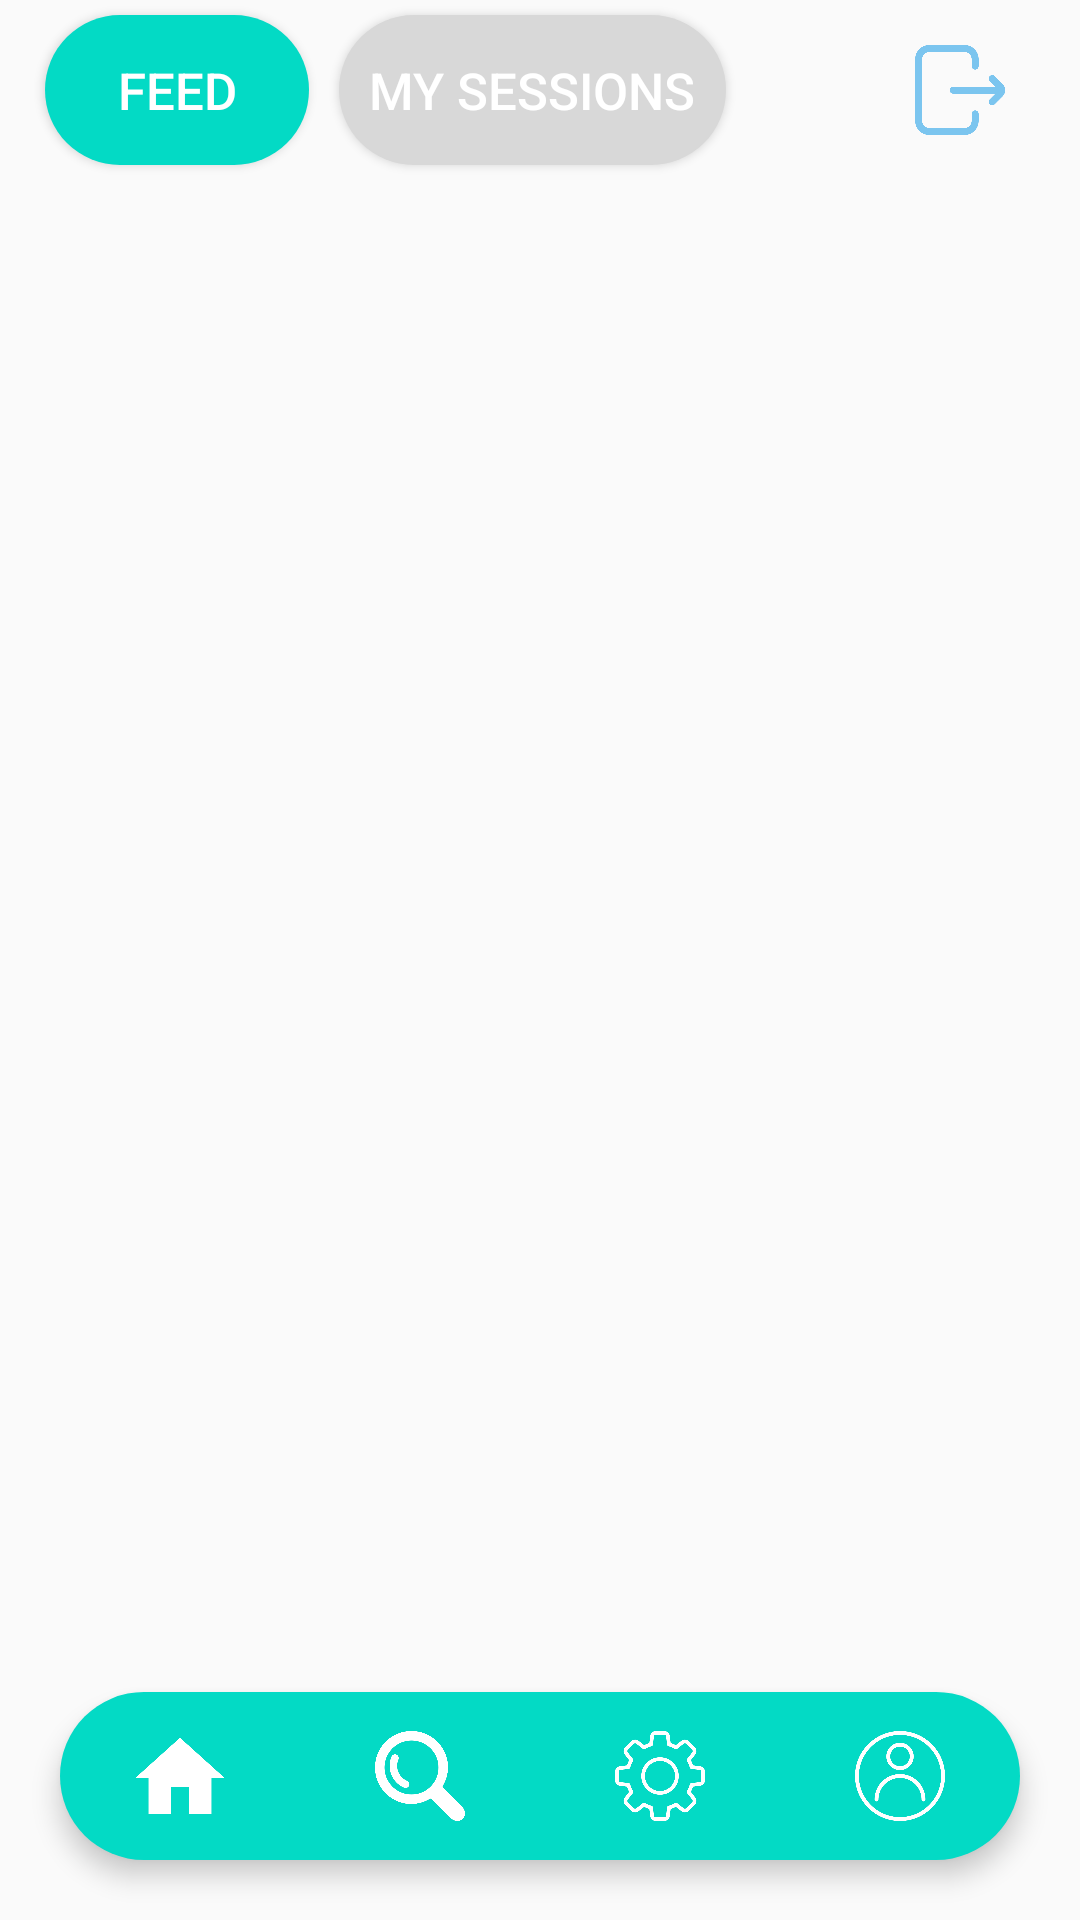

Screen size 1080w x 1920h. Icon name, then its center in pixels as point (x, y):
exit: point (960, 90)
